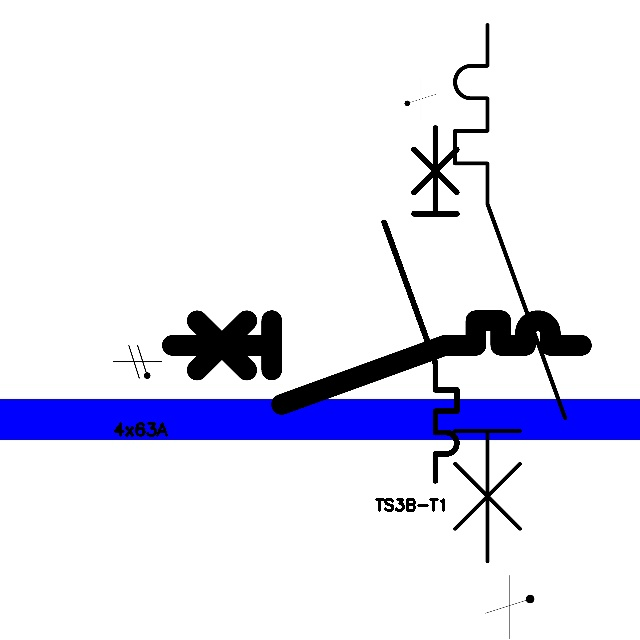interruptor_termomagnetico: (441, 11, 579, 575), (161, 310, 591, 415), (375, 118, 466, 489)
